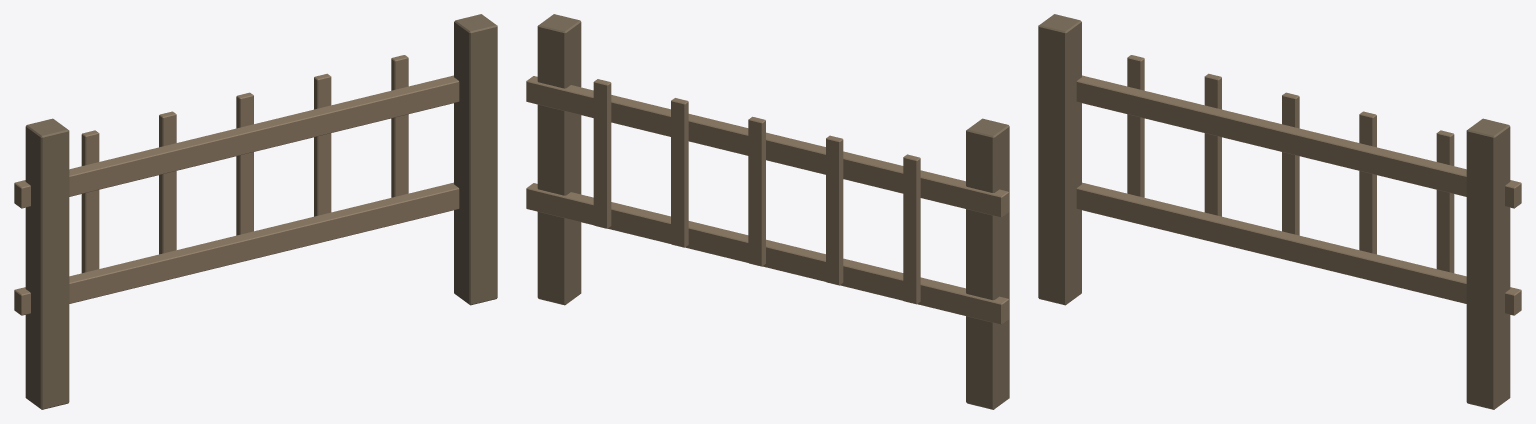
Rendered from env_fence_rail_intact_b_v03_five_pickets.glb.
3 renders of one model, left to right at view 1: azimuth 30°, elevation 25°; view 2: azimuth 150°, elevation 25°; view 3: azimuth 330°, elevation 25°, orthographic.
Visible parts, largest first — view 1: material_0, material_2; view 2: material_0, material_2; view 3: material_0, material_2.
Boxes of the visible parts, bbox=[...] form: material_0: bbox=[14, 55, 459, 315]; material_2: bbox=[25, 14, 497, 409]; material_0: bbox=[526, 76, 1008, 324]; material_2: bbox=[537, 14, 1009, 409]; material_0: bbox=[1076, 55, 1521, 315]; material_2: bbox=[1038, 14, 1510, 409].
Size of the model in its own units: 2 by 1.1 by 0.195.
